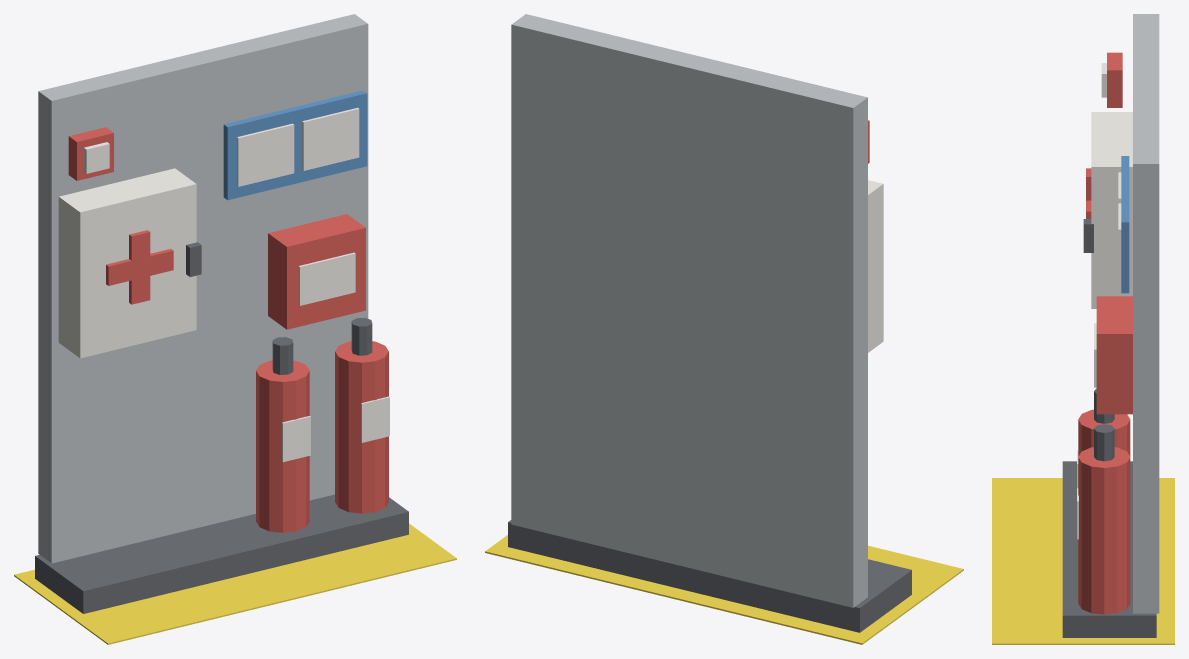
The model's file is first-aid-and-fire-point.glb.
3 renders of one model, left to right at view 1: azimuth 30°, elevation 25°; view 2: azimuth 150°, elevation 25°; view 3: azimuth 270°, elevation 25°, orthographic. The views are drawn at different scales.
Parts seen in each view (by area): view 1: parcel-depot-and-sorting-hall-first-aid-and-fire-point; view 2: parcel-depot-and-sorting-hall-first-aid-and-fire-point; view 3: parcel-depot-and-sorting-hall-first-aid-and-fire-point.
Boxes of the visible parts, x1,y1,x2,y2 form: parcel-depot-and-sorting-hall-first-aid-and-fire-point: [14, 14, 456, 644]; parcel-depot-and-sorting-hall-first-aid-and-fire-point: [485, 14, 963, 644]; parcel-depot-and-sorting-hall-first-aid-and-fire-point: [992, 14, 1174, 644].
Size of the model in its own units: 1.5 by 2 by 0.6999.
